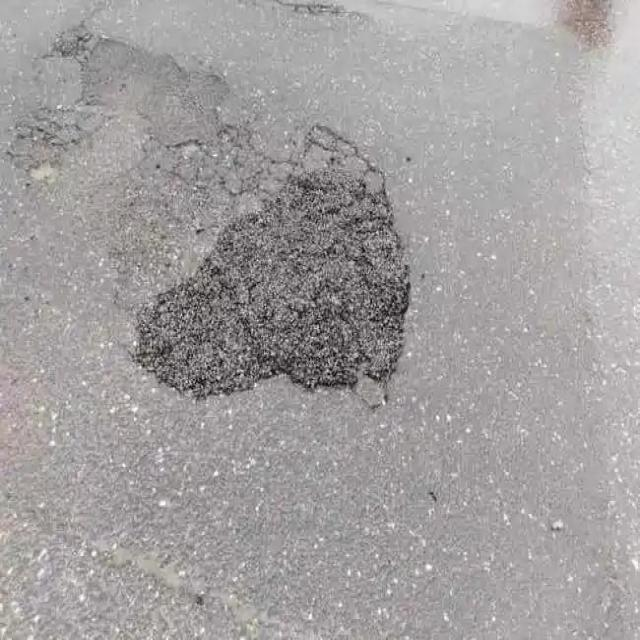Pothole: (119, 139, 410, 399)
